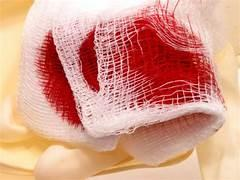cotton: (19, 1, 224, 163), (0, 1, 50, 179)
